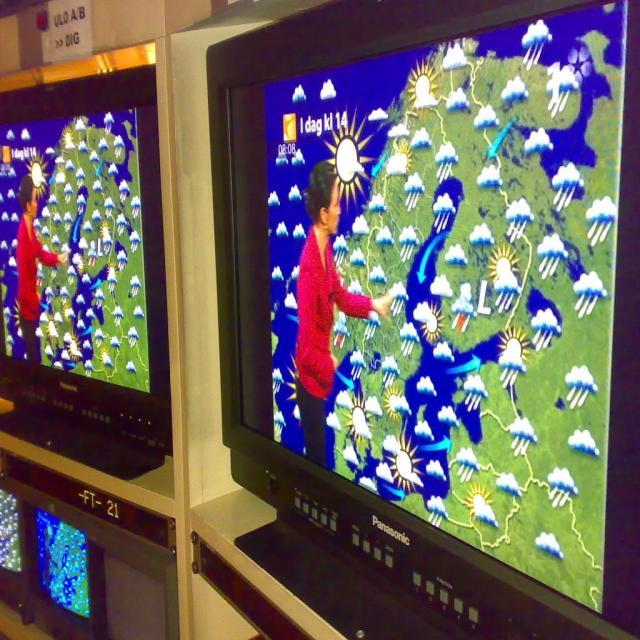others: (206, 1, 638, 640), (1, 64, 197, 638)
